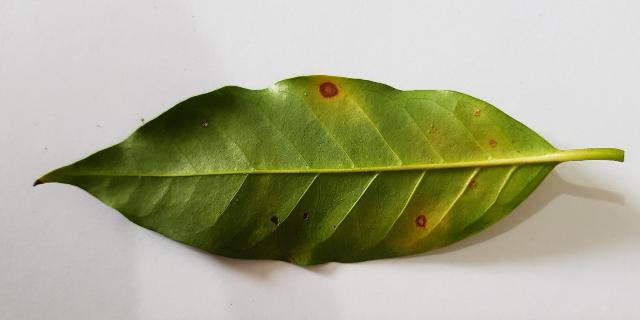phoma: (318, 80, 340, 99), (414, 214, 426, 228), (467, 181, 476, 188)
